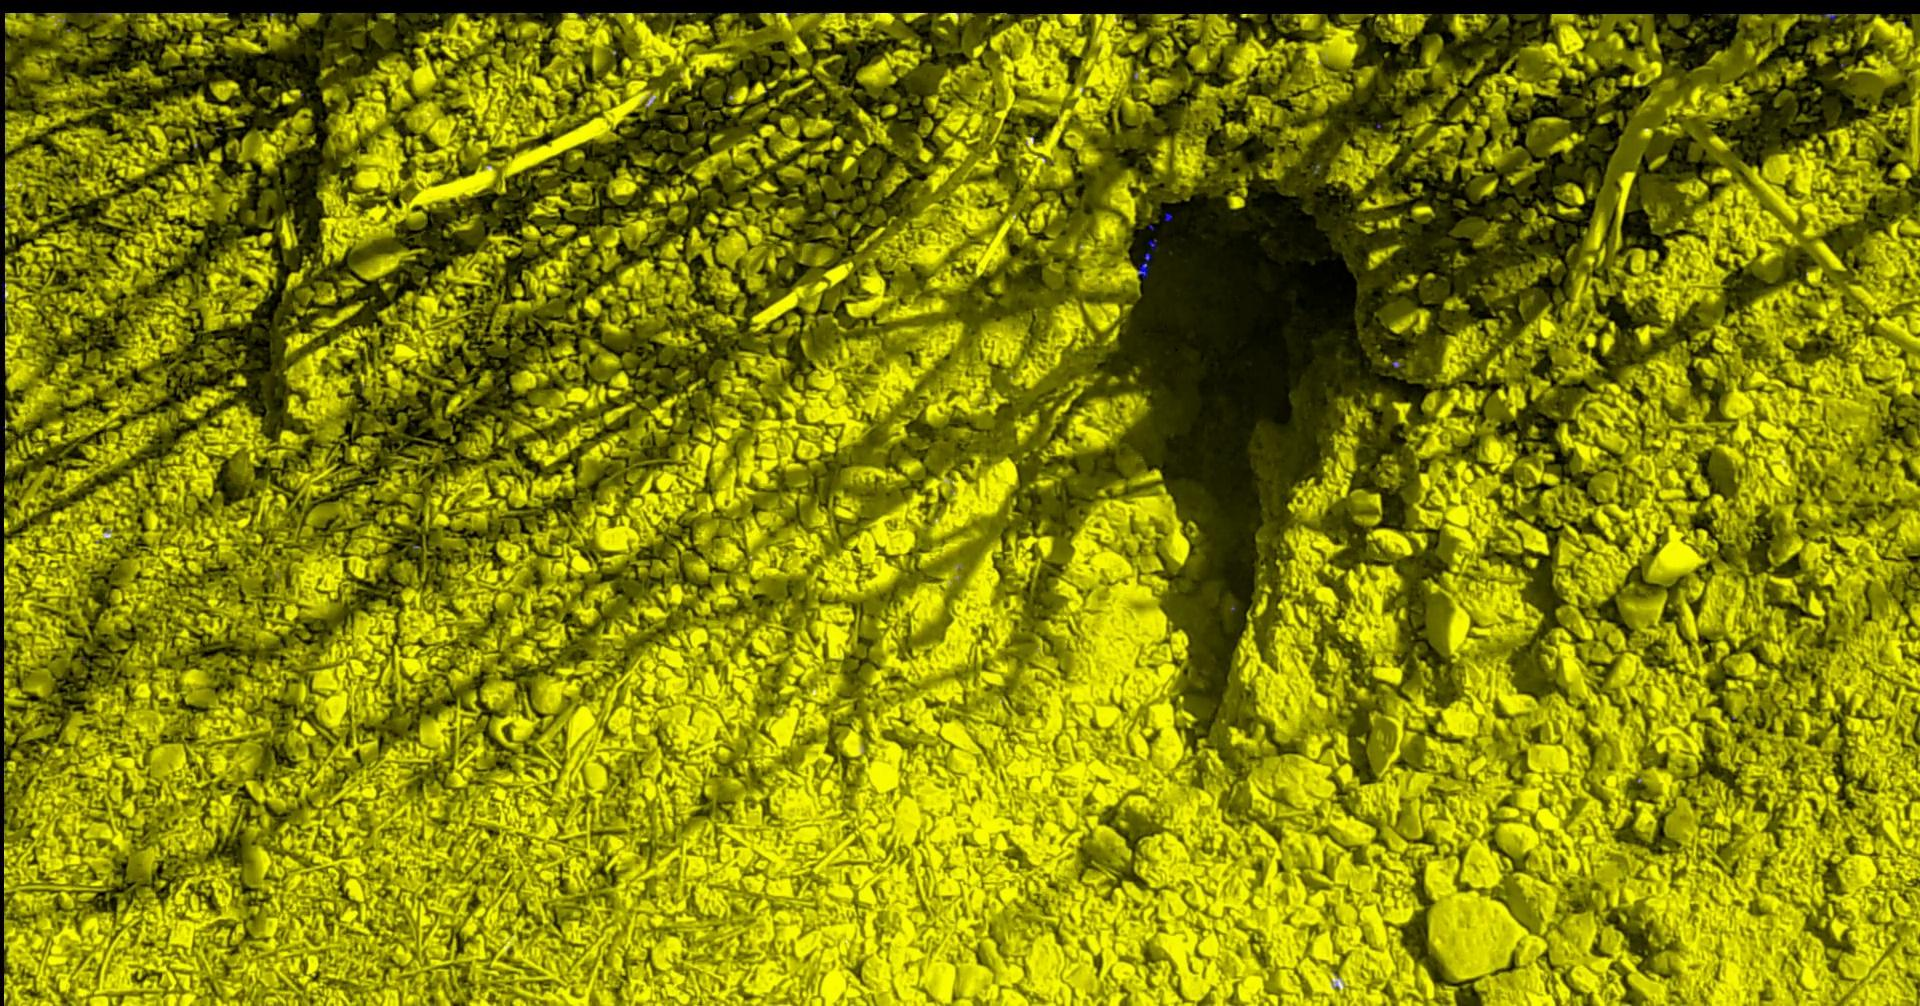ant: (1140, 251, 1154, 278)
